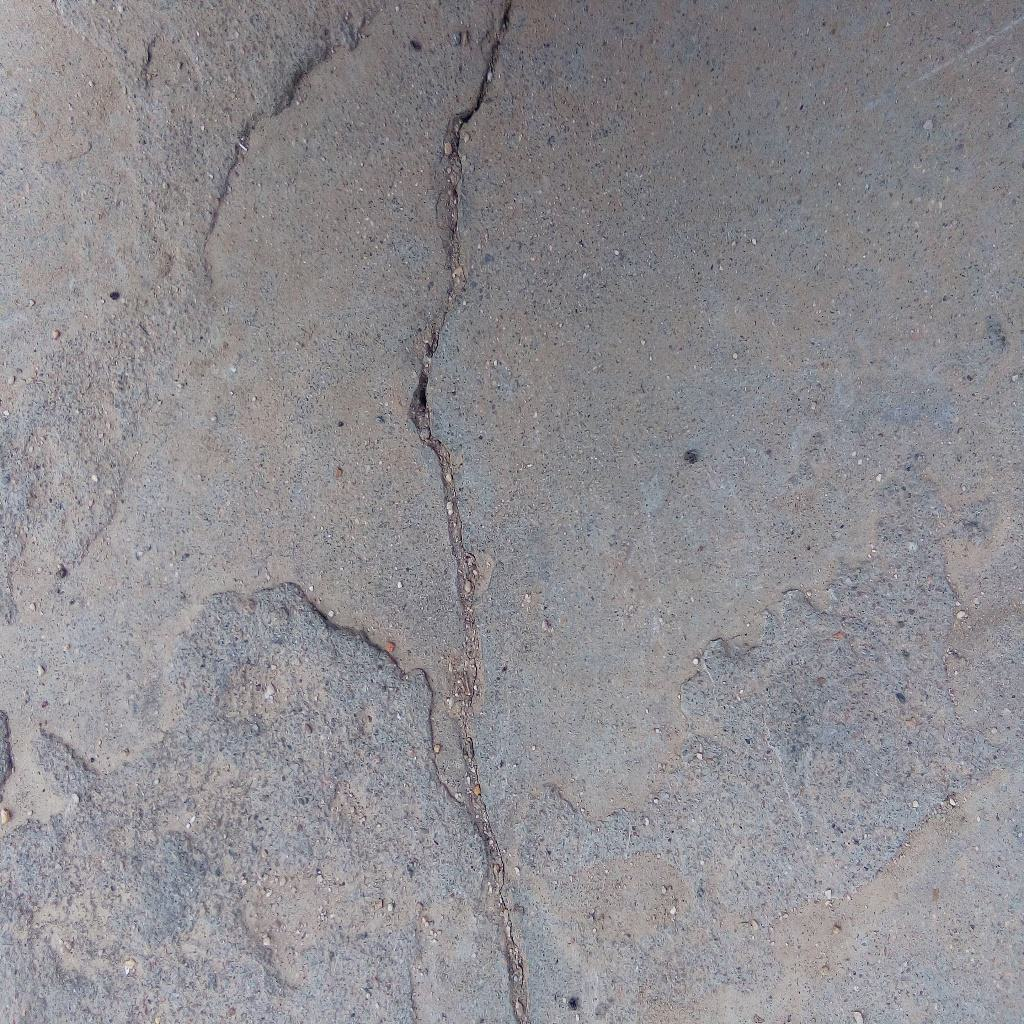Crack: (404, 1, 530, 1024)
